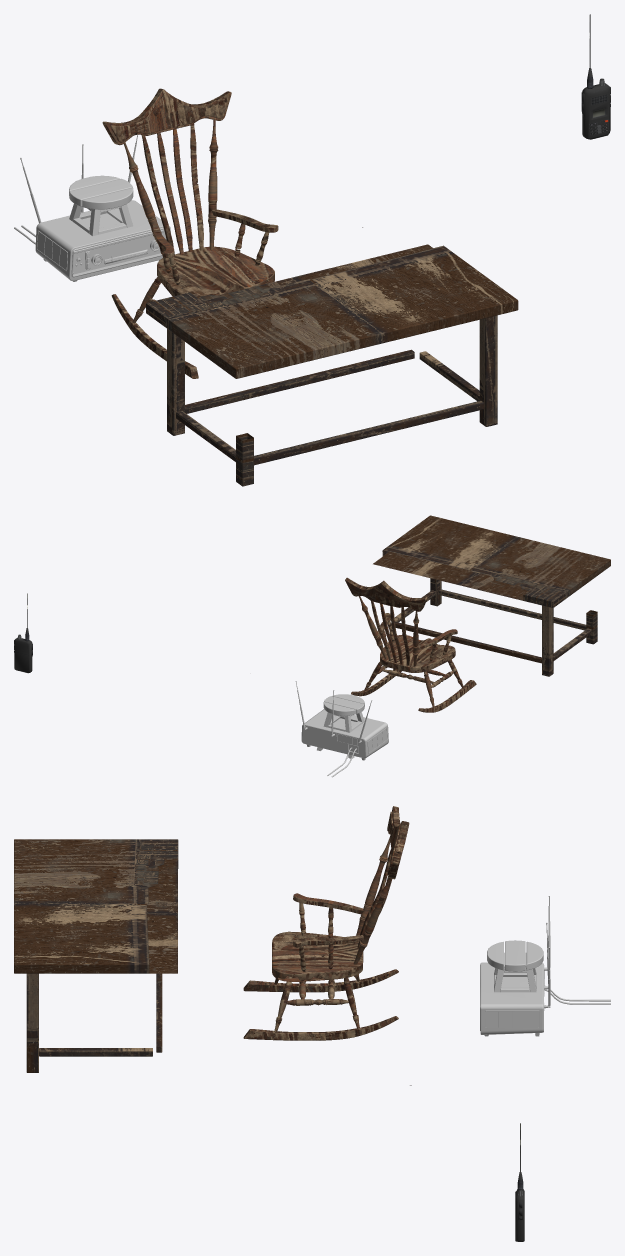
File: LEAKING PIPE.fbx
The picture shows the model from 3 angles, top to bottom: view 1: azimuth 30°, elevation 25°; view 2: azimuth 150°, elevation 25°; view 3: azimuth 270°, elevation 25°; orthographic projection. The views are drawn at different scales.
Visible parts, largest first — view 1: Table, Chair, Vintage_Router_asset, Stool, Radio (Lost signal); view 2: Table, Chair, Vintage_Router_asset, Stool, Radio (Lost signal); view 3: Table, Chair, Vintage_Router_asset, Stool, Radio (Lost signal).
Boxes of the visible parts, <box> form: Table: <box>146,244,518,486</box>; Chair: <box>102,88,278,378</box>; Vintage_Router_asset: <box>14,134,170,281</box>; Stool: <box>69,175,133,236</box>; Radio (Lost signal): <box>581,14,610,139</box>; Table: <box>373,515,610,676</box>; Chair: <box>345,577,476,712</box>; Vintage_Router_asset: <box>295,681,388,777</box>; Stool: <box>317,694,364,758</box>; Radio (Lost signal): <box>14,593,32,673</box>; Table: <box>14,839,178,1072</box>; Chair: <box>243,806,409,1040</box>; Vintage_Router_asset: <box>480,896,610,1036</box>; Stool: <box>487,940,543,992</box>; Radio (Lost signal): <box>515,1123,524,1241</box>.
Size of the model in its own units: 1635 by 515 by 1424.
